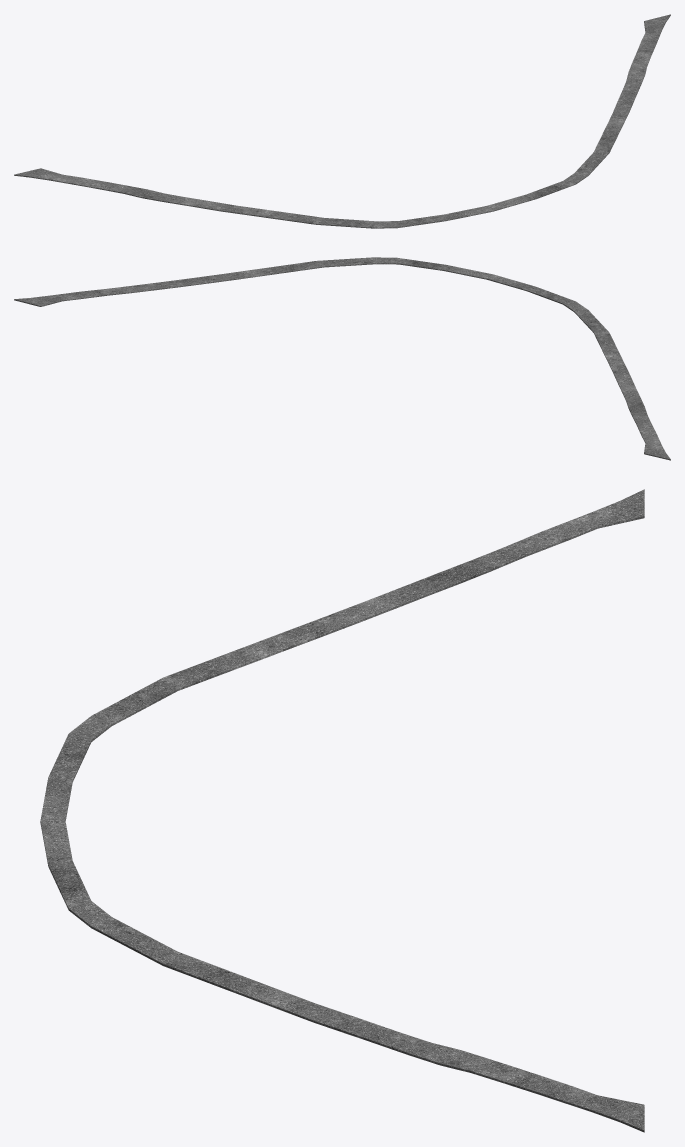
The model's file is SM_GHM_Road.fbx.
3 views of the same model, one above another, from view 1: azimuth 30°, elevation 25°; view 2: azimuth 150°, elevation 25°; view 3: azimuth 270°, elevation 25° (orthographic). The views are drawn at different scales.
Visible parts, largest first — view 1: SM_GHM_Road; view 2: SM_GHM_Road; view 3: SM_GHM_Road.
Boxes of the visible parts, x1=… form: SM_GHM_Road: x1=14, y1=14, x2=670, y2=228; SM_GHM_Road: x1=14, y1=257, x2=670, y2=460; SM_GHM_Road: x1=40, y1=489, x2=644, y2=1132.
Size of the model in its own units: 17320 by 170 by 6896.
